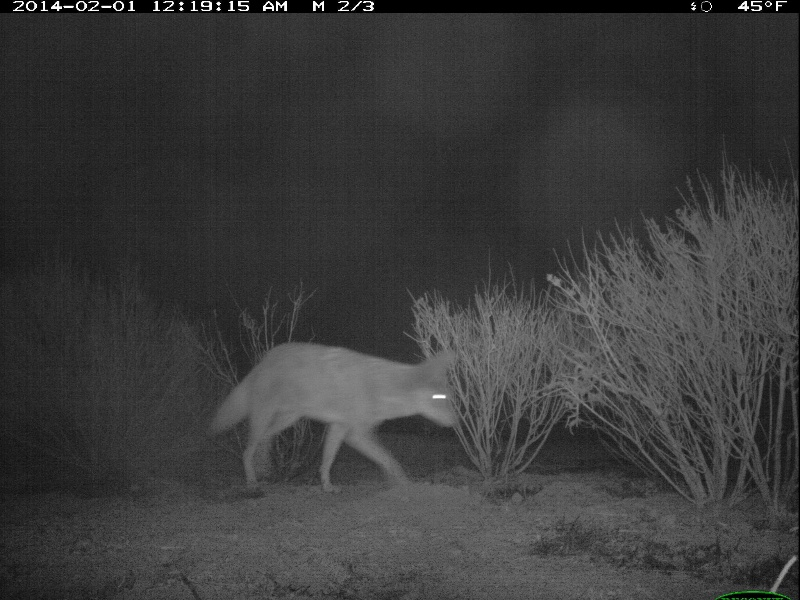coyote: (214, 342, 468, 506)
